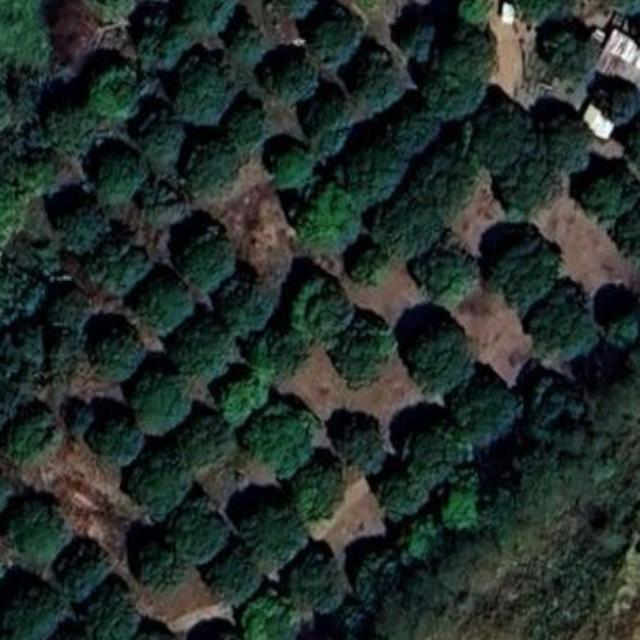Tree: (418, 34, 498, 123), (369, 190, 446, 268), (487, 230, 562, 309), (532, 290, 602, 367), (0, 491, 73, 564), (288, 270, 357, 346), (335, 308, 400, 388), (418, 148, 489, 220), (450, 380, 519, 454), (408, 327, 478, 399), (528, 105, 596, 176), (128, 368, 195, 438), (253, 405, 320, 475), (0, 575, 72, 640), (240, 500, 301, 576), (499, 144, 566, 213), (296, 186, 361, 256), (405, 423, 472, 489), (176, 406, 238, 476), (291, 452, 347, 529), (140, 11, 206, 74), (540, 24, 609, 84), (289, 543, 346, 615), (345, 137, 406, 204), (175, 319, 236, 383), (468, 107, 529, 171), (29, 96, 95, 155), (129, 447, 188, 513), (173, 64, 230, 130), (136, 268, 192, 335), (56, 536, 113, 601), (186, 134, 242, 200), (11, 406, 65, 474), (83, 581, 144, 640), (92, 142, 149, 205), (179, 233, 235, 297), (214, 280, 278, 336), (252, 323, 308, 387), (237, 587, 303, 640), (52, 192, 108, 254), (369, 464, 425, 526), (89, 63, 143, 127), (173, 501, 227, 565), (420, 244, 477, 304), (94, 314, 142, 384), (352, 56, 404, 120), (212, 546, 260, 614), (96, 237, 151, 296), (218, 368, 271, 428), (92, 410, 150, 463), (582, 173, 634, 231), (386, 105, 442, 157), (139, 114, 188, 172), (309, 16, 364, 64), (306, 99, 350, 158), (44, 280, 92, 334), (342, 419, 386, 476), (144, 541, 188, 597), (270, 54, 318, 102), (349, 242, 392, 290), (594, 80, 640, 124), (272, 144, 314, 187), (451, 0, 504, 33), (230, 109, 268, 154), (605, 310, 640, 356), (234, 27, 273, 68), (403, 24, 440, 62)
